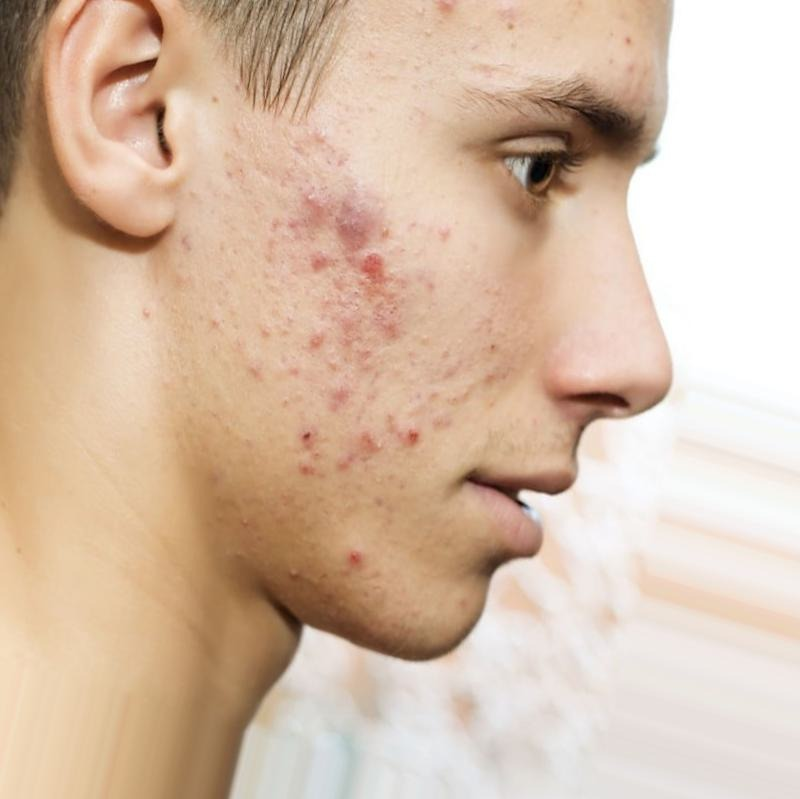Acne: (240, 77, 456, 613)
